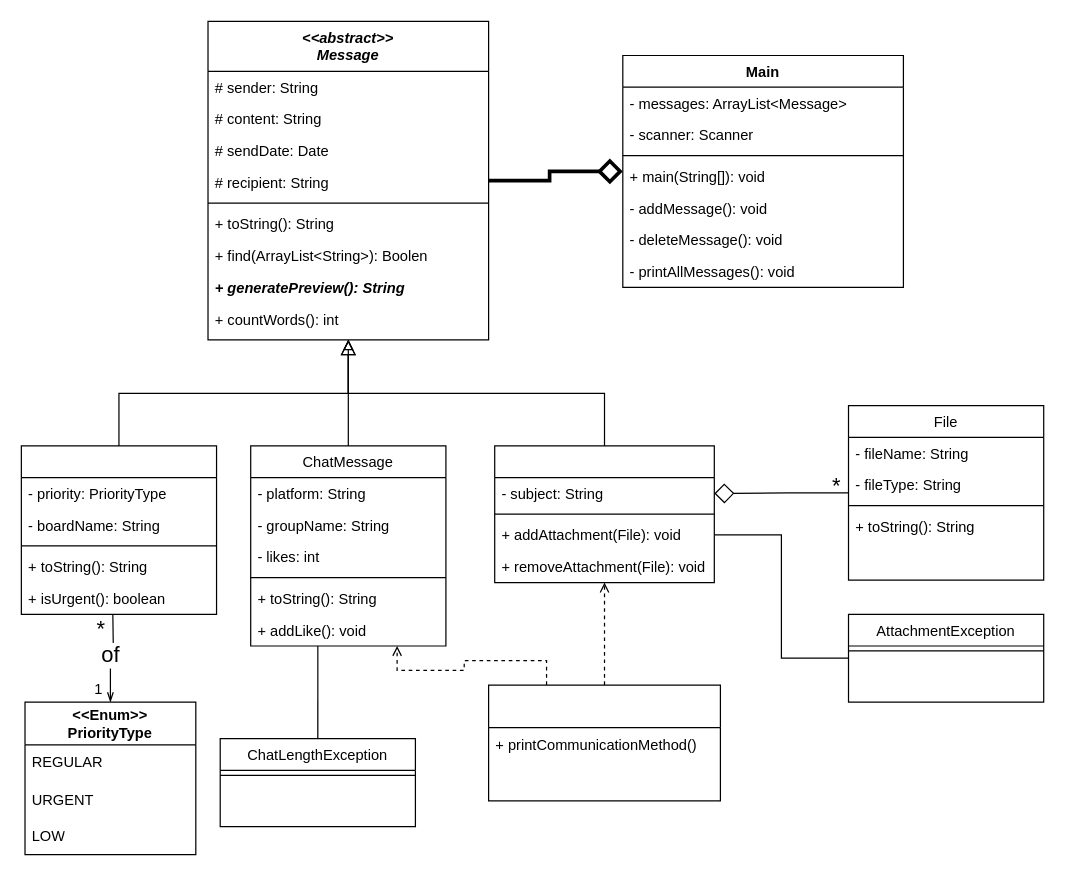
Image size: 1065x876. Some labels were removed from this diagram. Here are the shapes that lost their labels. From the top down, the box of each, then its label:
(20, 445, 217, 614): BoardMessage
(493, 445, 714, 583): EmailMessage
(487, 684, 720, 801): <<Interface>> IDigital
